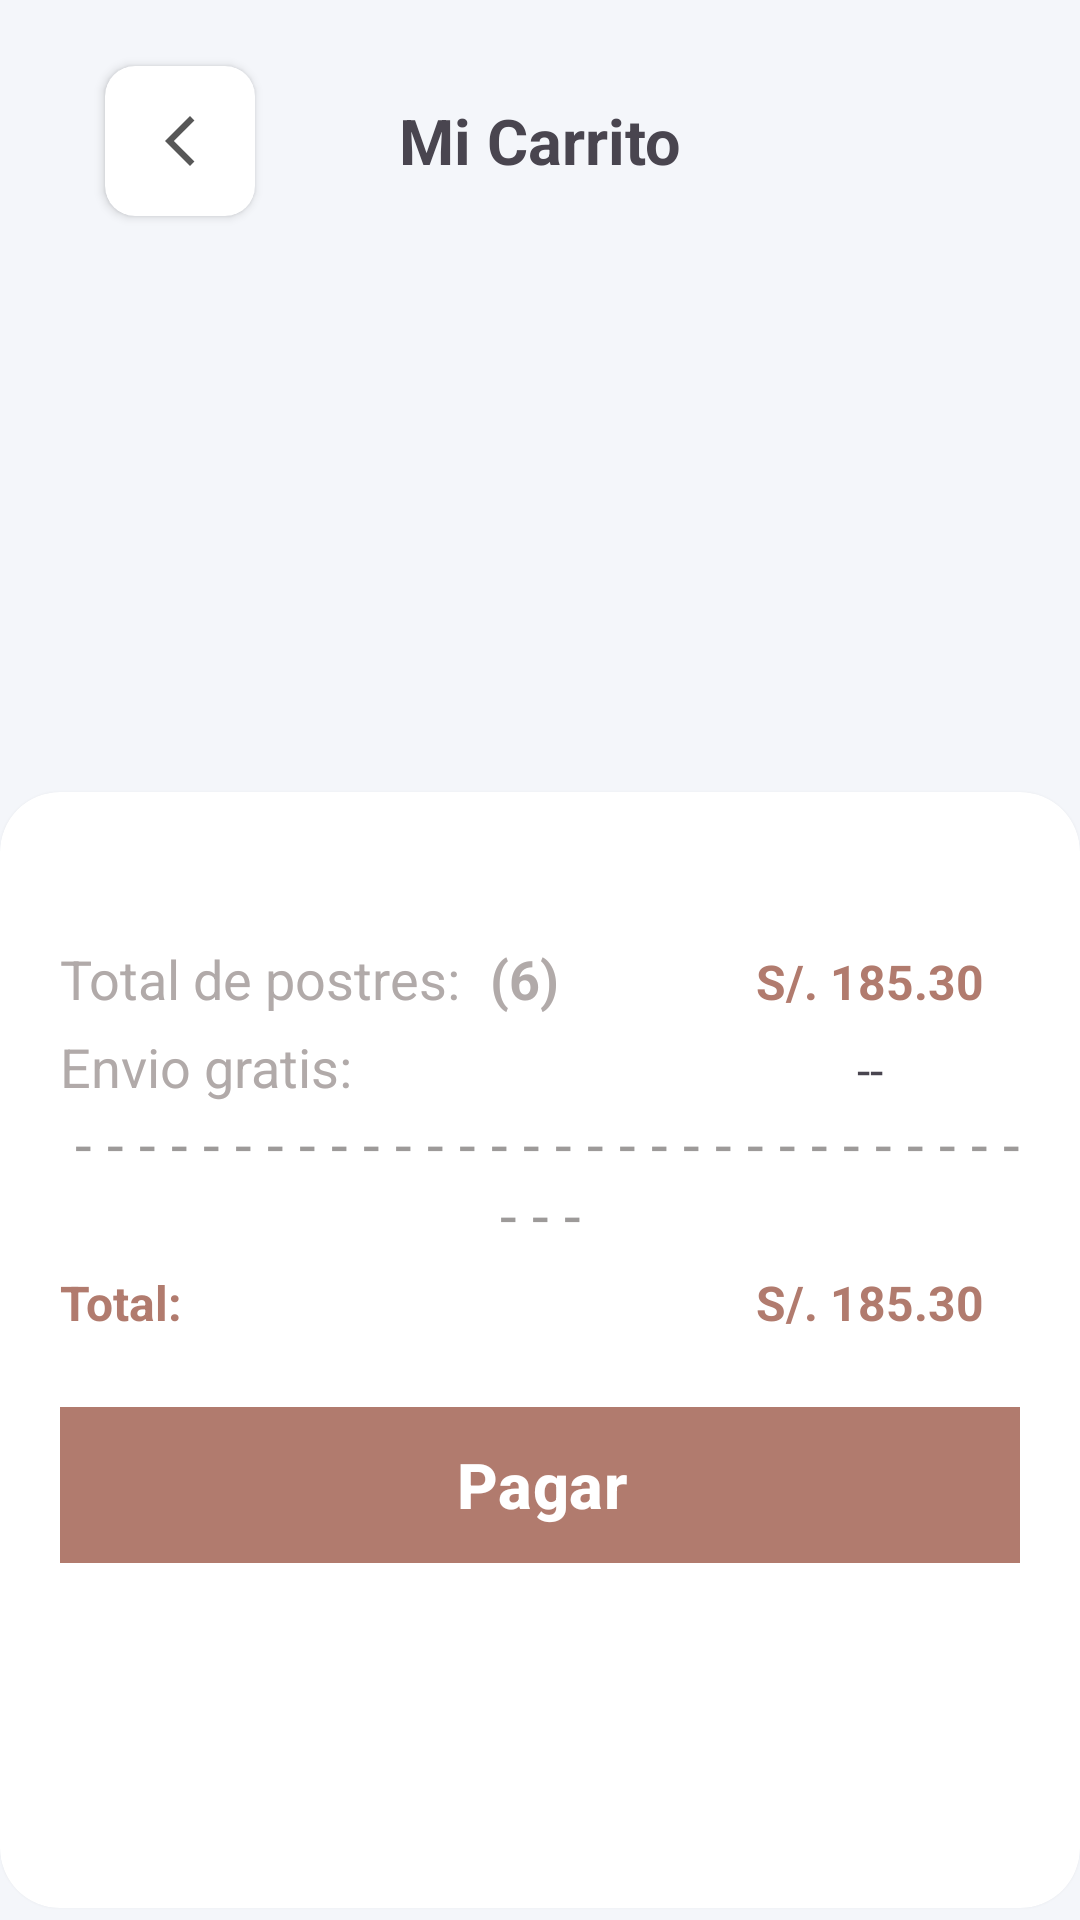

Point at icon controls on the screen. Image size 1080px x 1920px, points as (x,y).
back: (180,141)
